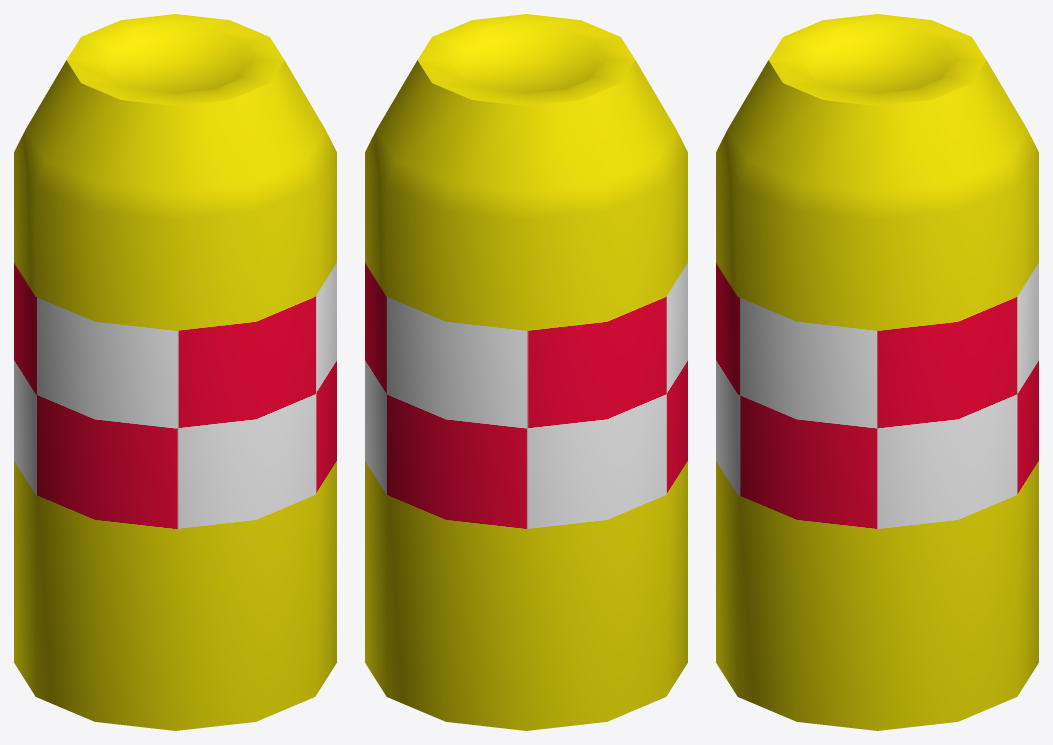
The model's file is aws_CrashworthBucket_01_visual.DAE.
3 renders of one model, left to right at view 1: azimuth 30°, elevation 25°; view 2: azimuth 150°, elevation 25°; view 3: azimuth 270°, elevation 25°, orthographic.
Visible parts, largest first — view 1: aws_CrashworthBucket_01_visual; view 2: aws_CrashworthBucket_01_visual; view 3: aws_CrashworthBucket_01_visual.
Boxes of the visible parts, x1,y1,x2,y2 form: aws_CrashworthBucket_01_visual: (14,14,336,730); aws_CrashworthBucket_01_visual: (365,14,687,730); aws_CrashworthBucket_01_visual: (716,14,1038,730).
Bounding box in the file's own units: 71.2 × 71.2 × 147.
Materials: 1 (1 with a texture image).
